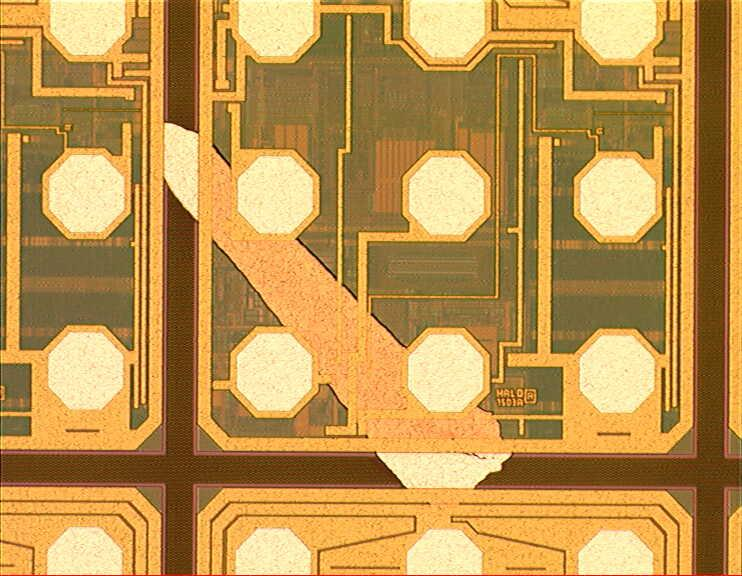BLOCK ETCH: (163, 122, 518, 491)
